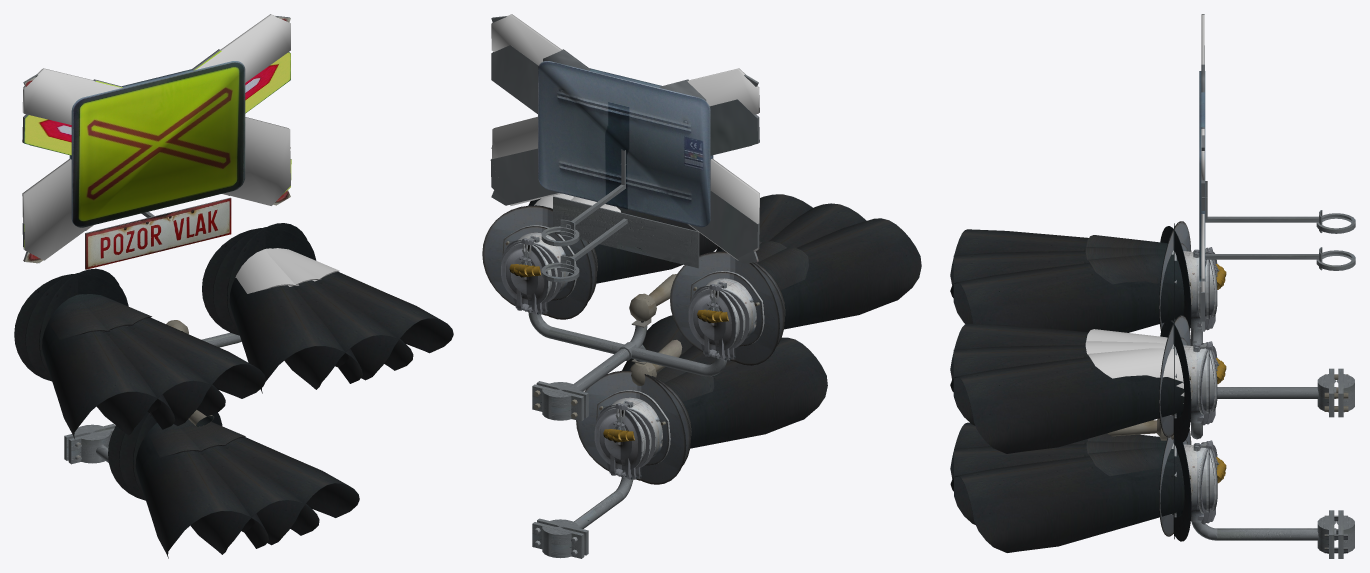
File: sssrVystZav_noveTextury.obj
3 views of the same model, side by side, from view 1: azimuth 30°, elevation 25°; view 2: azimuth 150°, elevation 25°; view 3: azimuth 270°, elevation 25° (orthographic). The views are drawn at different scales.
Visible parts, largest first — view 1: kriz_sk_refl, kriz_xk_refl_velky, zaklad_stinidlo_long_L, zaklad_stinidlo_long_R, zaklad_stinidlo_long_S, pozitivka_stinidlo_long_L, pozitivka_stinidlo_long_R, pozor_vlak_front, pozitivka_stinidlo_long_S, zaklad_base_L, zaklad_base_S, kriz_1k_refl_velky (+10 smaller); view 2: kriz_sk_refl, zaklad_stinidlo_long_L, pozitivka_stinidlo_long_L, kriz_1k_refl_velky, kriz_xk_refl_velky, zaklad_base_back_R, pozor_vlak_back, zaklad_base_back_L, houkacka_up_ram, zaklad_back_R, pozitivka_base_back_L, pozitivka_ram (+23 smaller); view 3: zaklad_stinidlo_long_R, pozitivka_stinidlo_long_R, zaklad_stinidlo_long_S, zaklad_stinidlo_long_L, zaklad_stinidlo_short_R, pozitivka_ram, pozitivka_stinidlo_long_S, houkacka_dn_ram, zaklad_base_R, zaklad_back2_R, pozitivka_stinidlo_short_R, zaklad_base_back_L (+19 smaller).
Part boxes in pixels (x1,y1,x2,y2): kriz_sk_refl: (69, 61, 245, 227); kriz_xk_refl_velky: (22, 14, 290, 260); zaklad_stinidlo_long_L: (39, 278, 363, 438); zaklad_stinidlo_long_R: (129, 272, 453, 425); zaklad_stinidlo_long_S: (97, 280, 413, 435); pozitivka_stinidlo_long_L: (133, 433, 269, 558); pozitivka_stinidlo_long_R: (223, 437, 359, 545); pozor_vlak_front: (85, 198, 231, 269); pozitivka_stinidlo_long_S: (190, 446, 319, 554); zaklad_base_L: (14, 228, 314, 381); zaklad_base_S: (25, 226, 316, 380); kriz_1k_refl_velky: (22, 52, 291, 247); kriz_sk_refl: (538, 61, 713, 227); zaklad_stinidlo_long_L: (594, 207, 921, 329); pozitivka_stinidlo_long_L: (683, 337, 827, 448); kriz_1k_refl_velky: (490, 45, 759, 258); kriz_xk_refl_velky: (491, 14, 759, 260); zaklad_base_back_R: (482, 205, 785, 360); pozor_vlak_back: (553, 196, 699, 268); zaklad_base_back_L: (546, 208, 779, 365); houkacka_up_ram: (528, 312, 726, 391); zaklad_back_R: (501, 236, 748, 359); pozitivka_base_back_L: (640, 374, 685, 484); pozitivka_ram: (532, 477, 633, 558); zaklad_stinidlo_long_R: (950, 263, 1184, 453); pozitivka_stinidlo_long_R: (950, 451, 1184, 552); zaklad_stinidlo_long_S: (953, 251, 1089, 425); zaklad_stinidlo_long_L: (950, 229, 1088, 379); zaklad_stinidlo_short_R: (1088, 254, 1184, 403); pozitivka_ram: (1191, 510, 1354, 558); pozitivka_stinidlo_long_S: (954, 444, 1088, 524); houkacka_dn_ram: (1191, 328, 1354, 439); zaklad_base_R: (1160, 226, 1191, 442); zaklad_back2_R: (1184, 248, 1217, 422); pozitivka_stinidlo_short_R: (1088, 447, 1178, 476); zaklad_base_back_L: (1159, 221, 1191, 437).
Bounding box in the file's own units: 0.9236 × 1.08 × 0.8366.
